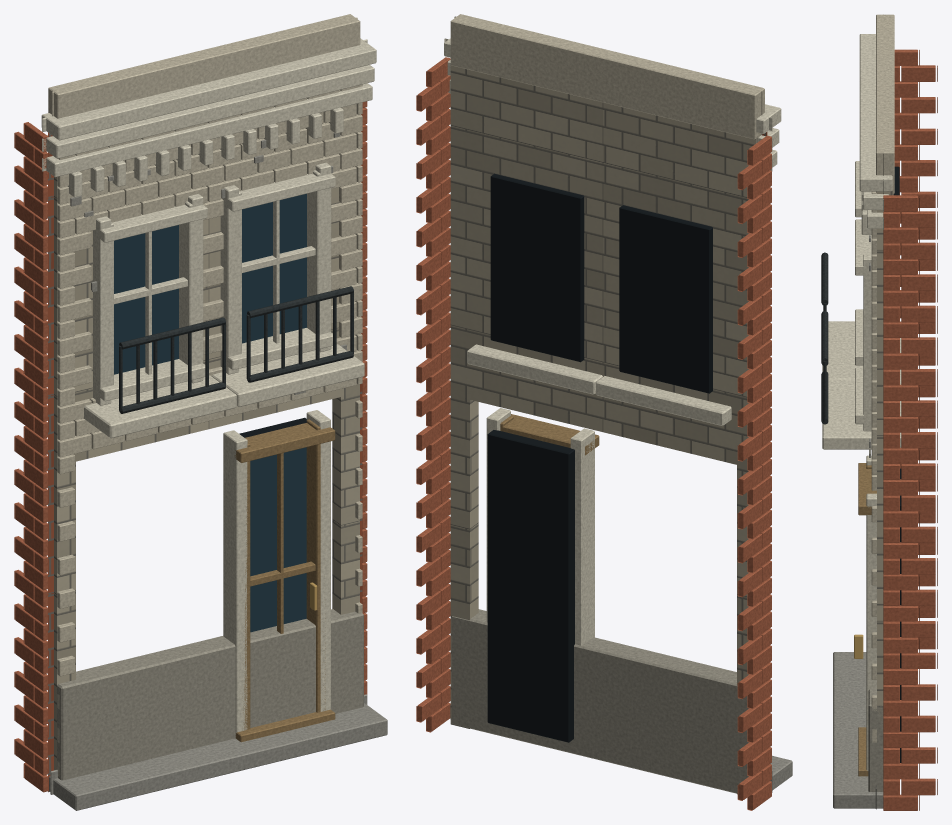
The model's file is RUNDWN15_lod0.glb.
The picture shows the model from 3 angles, left to right: view 1: azimuth 30°, elevation 25°; view 2: azimuth 150°, elevation 25°; view 3: azimuth 270°, elevation 25°; orthographic projection. The views are drawn at different scales.
Parts seen in each view (by area): view 1: RUNDWN15_FRONT_LOD0; view 2: RUNDWN15_FRONT_LOD0; view 3: RUNDWN15_FRONT_LOD0.
Boxes of the visible parts, bbox=[...] form: RUNDWN15_FRONT_LOD0: bbox=[14, 14, 387, 810]; RUNDWN15_FRONT_LOD0: bbox=[416, 14, 792, 810]; RUNDWN15_FRONT_LOD0: bbox=[821, 14, 937, 810].
Bounding box in the file's own units: 3.44 × 7.05 × 1.13.
Materials: 17 (14 with a texture image).
